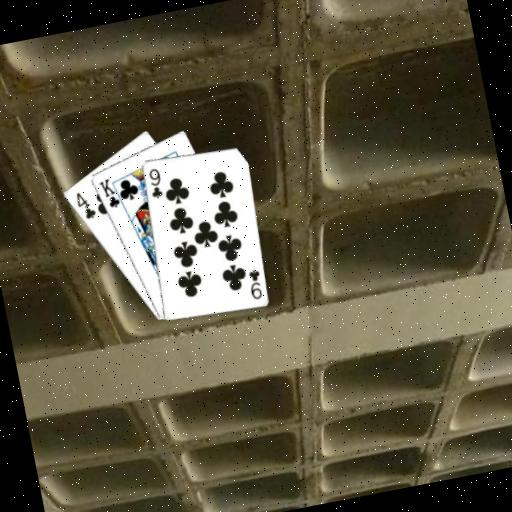4C: (72, 187, 98, 223)
9C: (143, 164, 166, 202), (243, 265, 266, 303)
KC: (95, 173, 127, 213)
